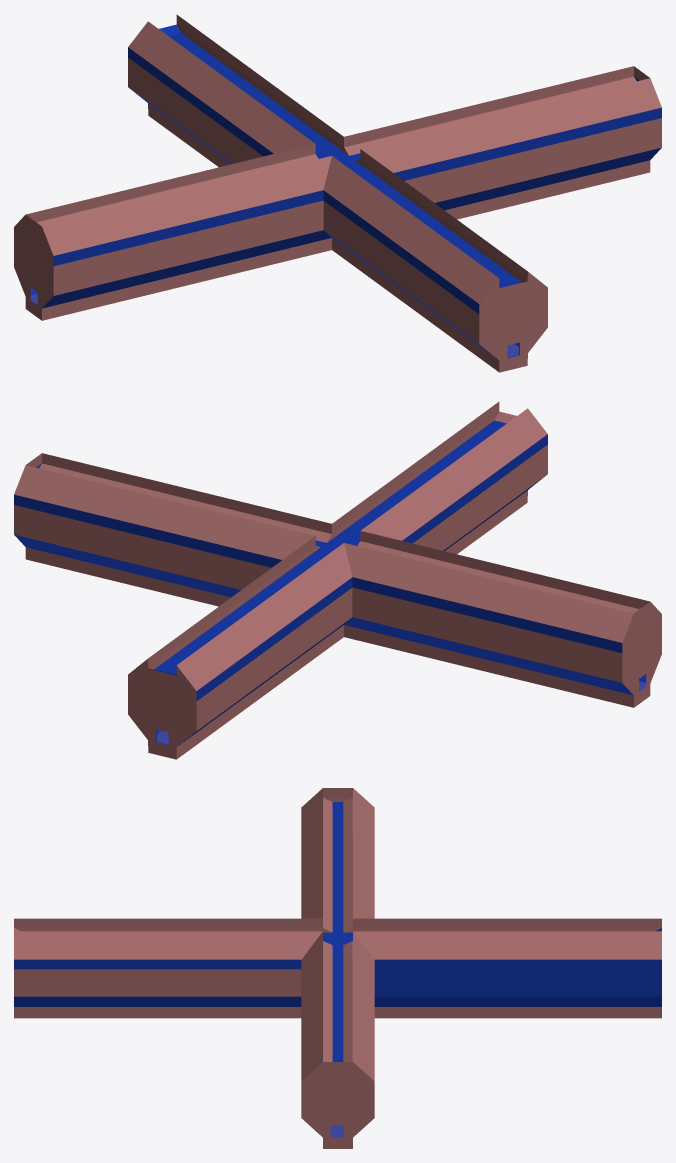
File: SS Module Large 4Way.FBX
3 renders of one model, top to bottom at view 1: azimuth 30°, elevation 25°; view 2: azimuth 150°, elevation 25°; view 3: azimuth 270°, elevation 25°, orthographic. The views are drawn at different scales.
Visible parts, largest first — view 1: Gengon011; view 2: Gengon011; view 3: Gengon011.
Part boxes in pixels (<box>): Gengon011: <box>14,14,661,372</box>; Gengon011: <box>14,401,661,759</box>; Gengon011: <box>14,788,661,1148</box>.
Bounding box in the file's own units: 196 × 29.12 × 196.
